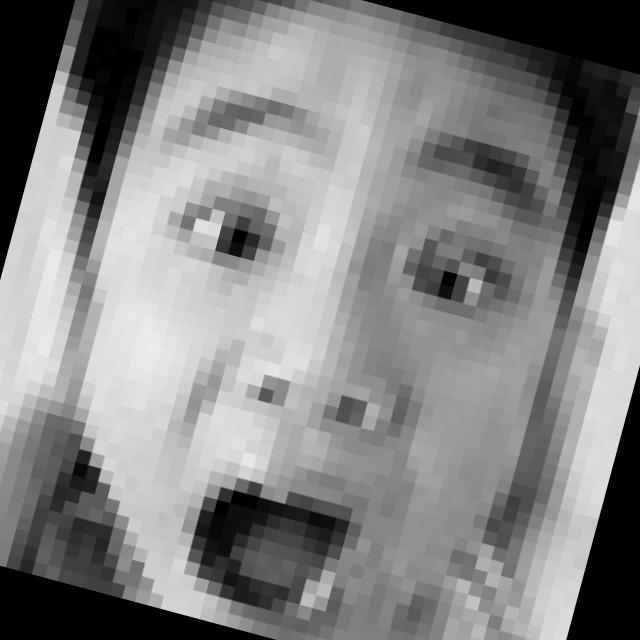surprise: (39, 41, 562, 640)
